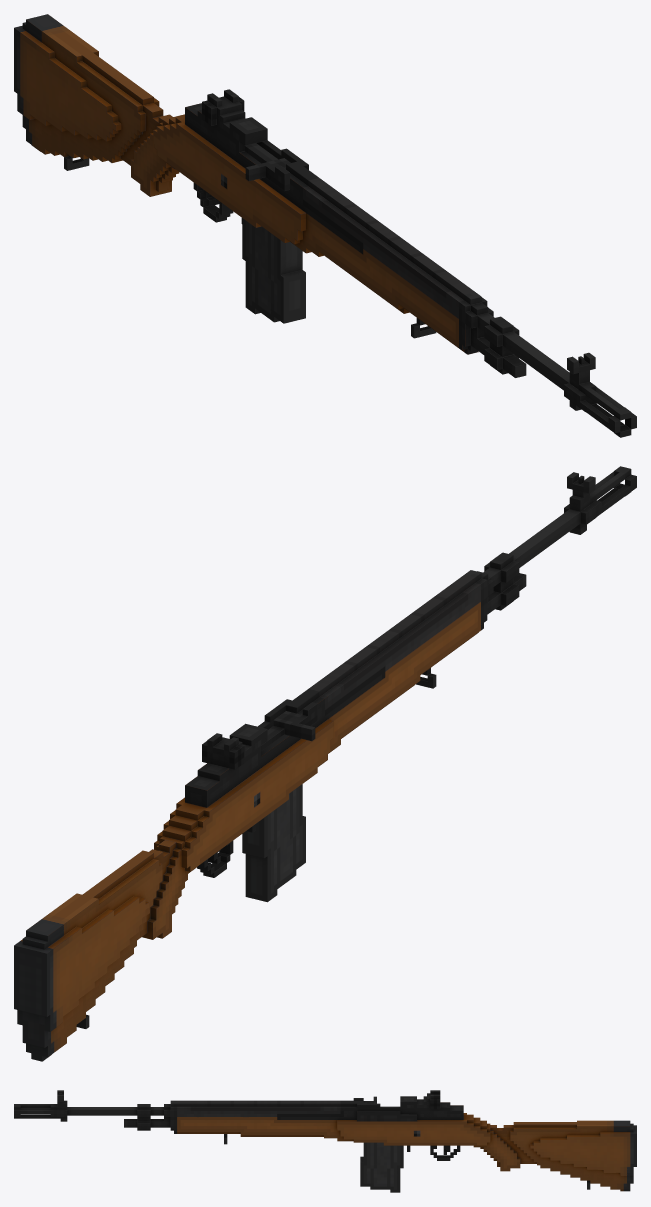
3 renders of one model, top to bottom at view 1: azimuth 30°, elevation 25°; view 2: azimuth 150°, elevation 25°; view 3: azimuth 270°, elevation 25°, orthographic. The views are drawn at different scales.
Visible parts, largest first — view 1: M14_BODY, M14_CLIP, M14_BOLT; view 2: M14_BODY, M14_CLIP, M14_BOLT; view 3: M14_BODY, M14_CLIP.
Boxes of the visible parts, x1,y1,x2,y2 form: M14_BODY: (14,14,636,437); M14_CLIP: (242,218,305,323); M14_BOLT: (244,143,290,190); M14_BODY: (14,466,636,1061); M14_CLIP: (242,784,305,902); M14_BOLT: (261,702,317,750); M14_BODY: (14,1090,636,1191); M14_CLIP: (360,1142,403,1192).
Bounding box in the file's own units: 0.0886 × 0.315 × 1.84.
1 material, 1 textured.
